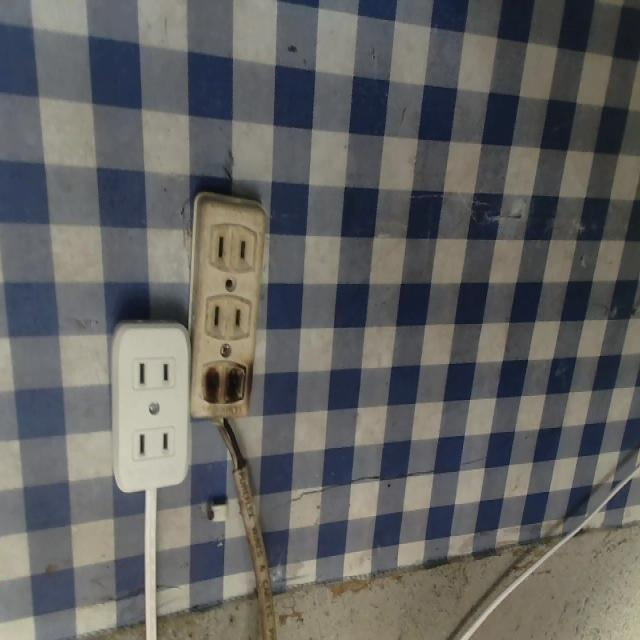-: (193, 360, 255, 416)
